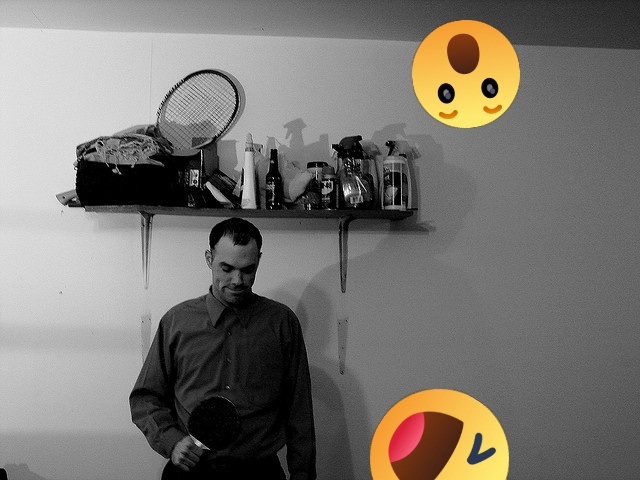haha: (370, 389, 509, 480)
wow: (412, 20, 520, 128)
